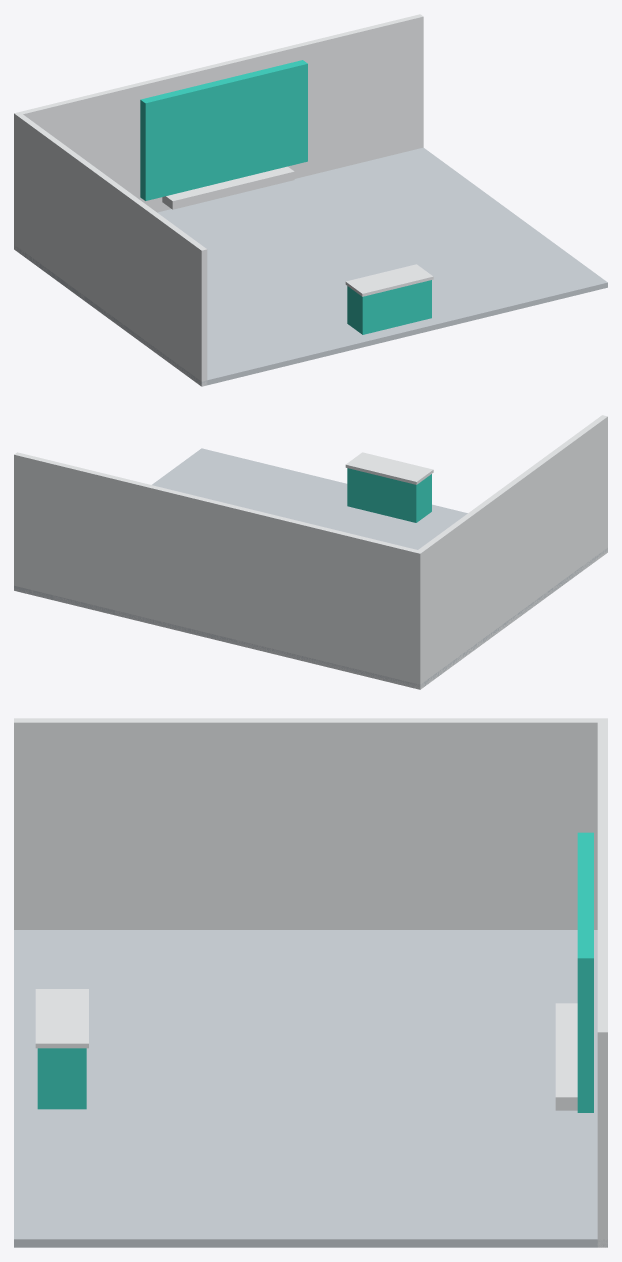
3 renders of one model, top to bottom at view 1: azimuth 30°, elevation 25°; view 2: azimuth 150°, elevation 25°; view 3: azimuth 270°, elevation 25°, orthographic. The views are drawn at different scales.
Visible parts, largest first — view 1: Exhibition Booth Concept; view 2: Exhibition Booth Concept; view 3: Exhibition Booth Concept.
Boxes of the visible parts, x1,y1,x2,y2 form: Exhibition Booth Concept: (14, 14, 607, 386); Exhibition Booth Concept: (14, 415, 607, 689); Exhibition Booth Concept: (14, 718, 607, 1247).
Bounding box in the file's own units: 10 × 3.2 × 8.
